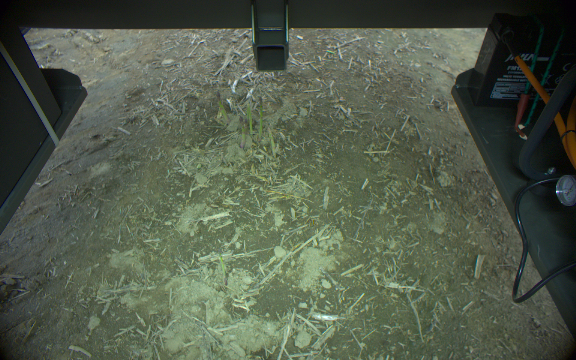aspa: (214, 90, 230, 125), (236, 115, 246, 150), (256, 96, 264, 137), (245, 97, 253, 135), (266, 126, 276, 151)
